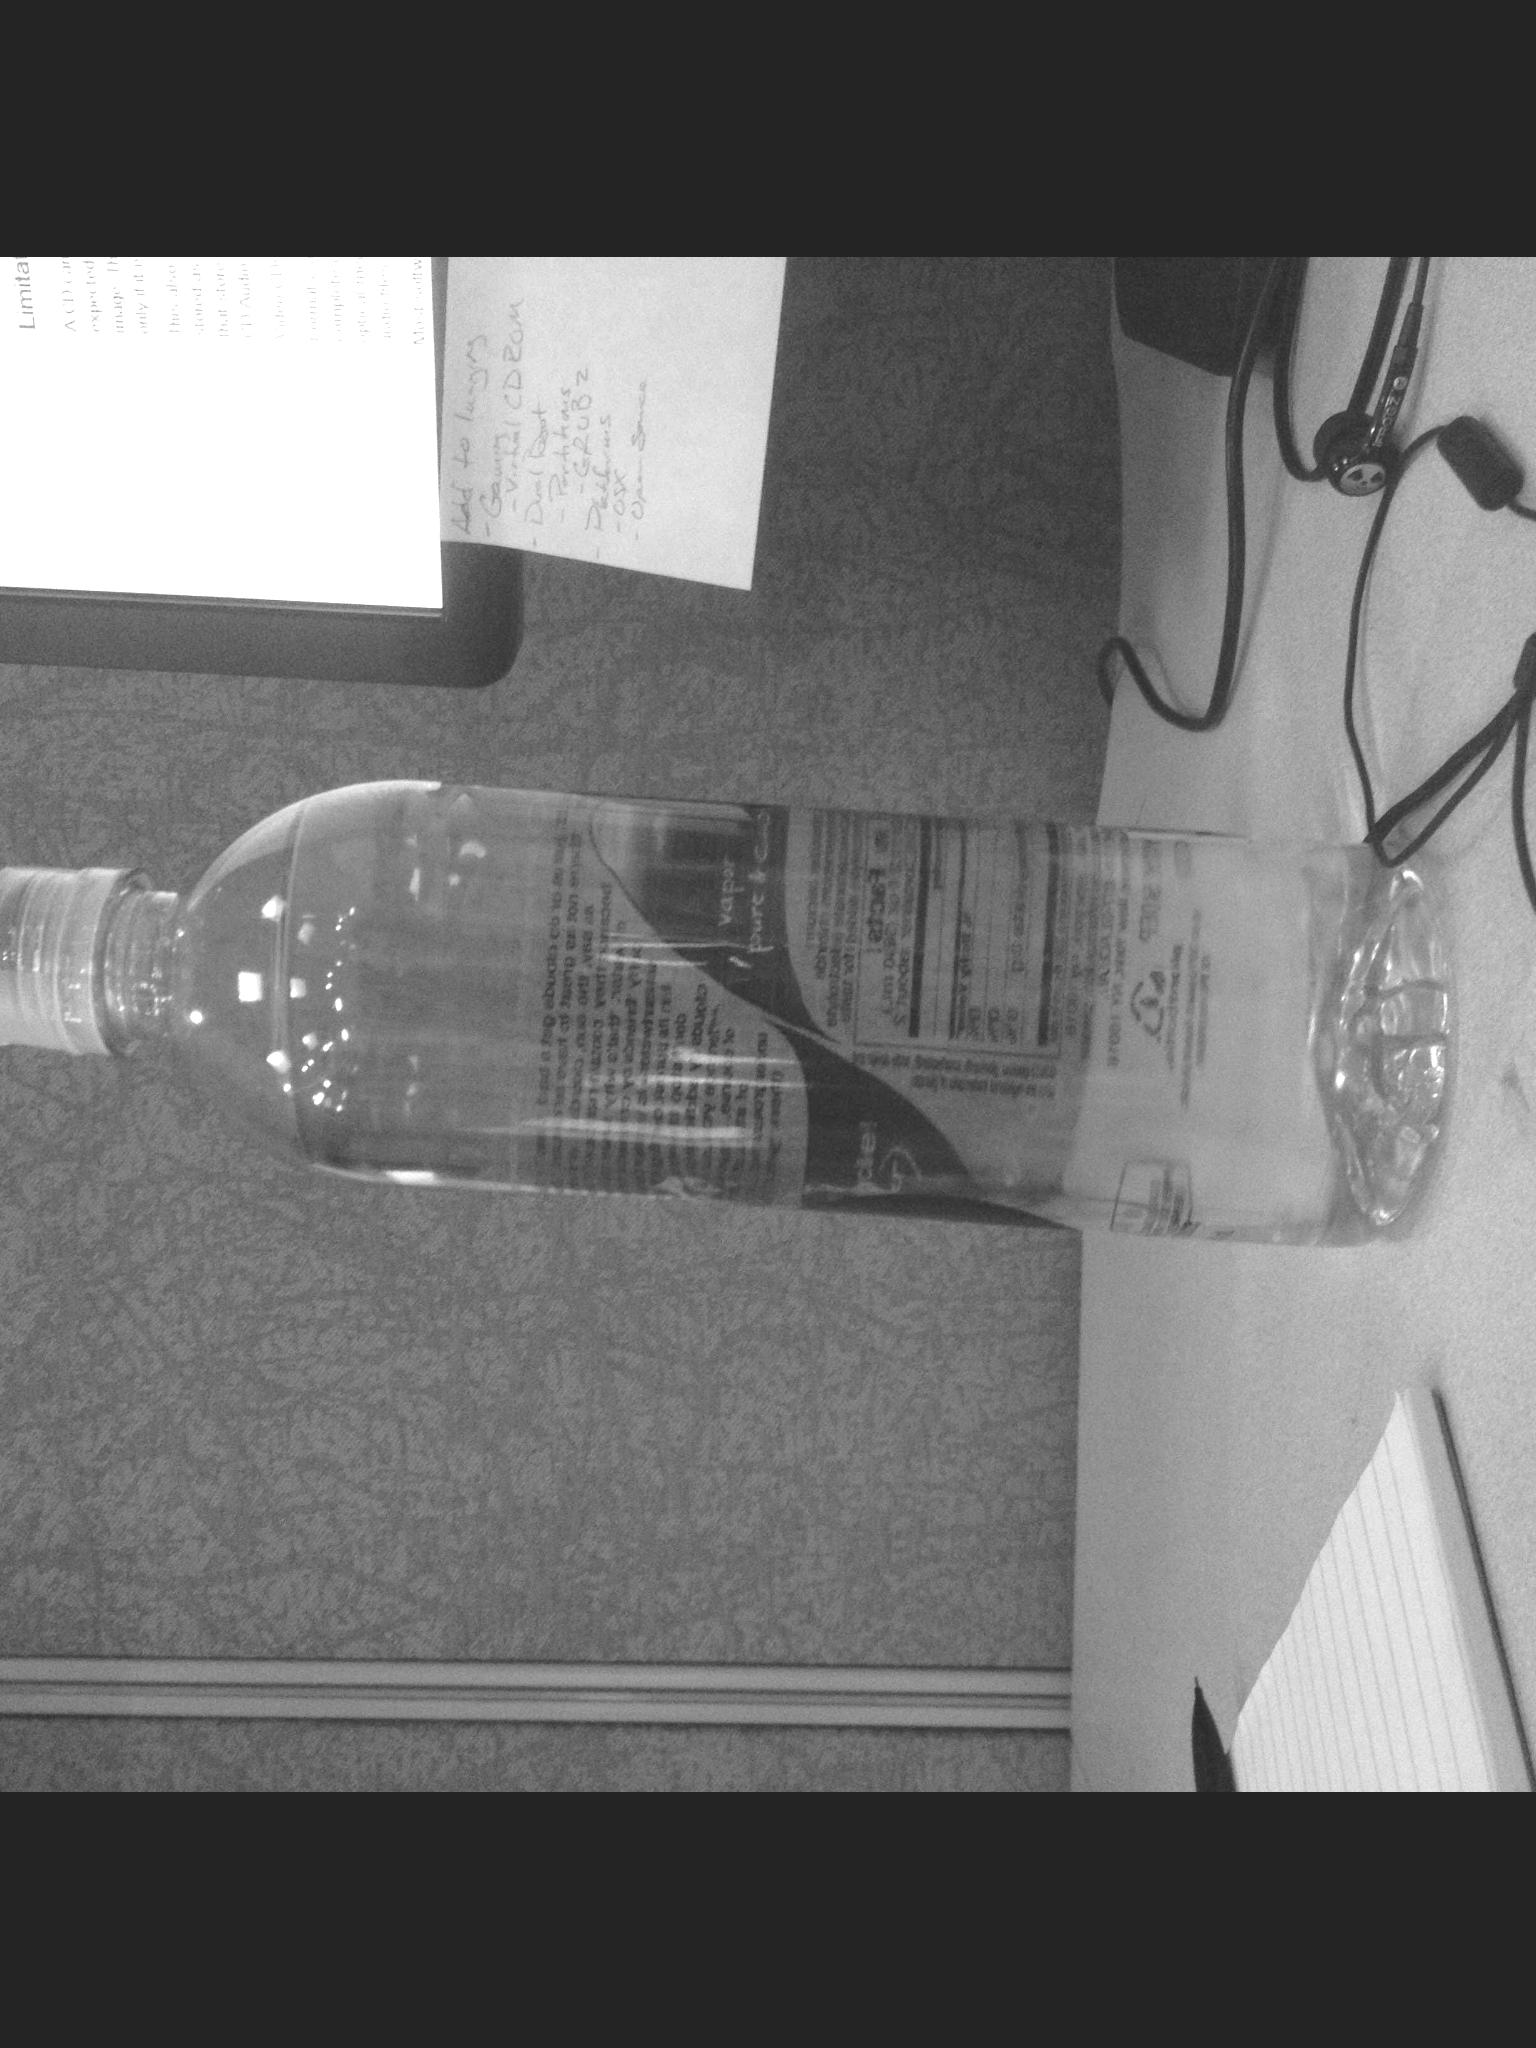bottle: (0, 727, 1486, 1276)
